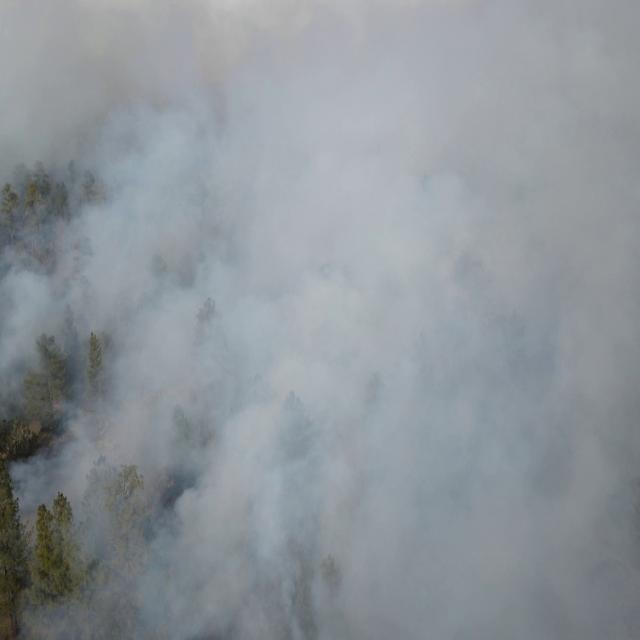fire: (50, 399, 64, 411)
smoke: (2, 0, 640, 640)
